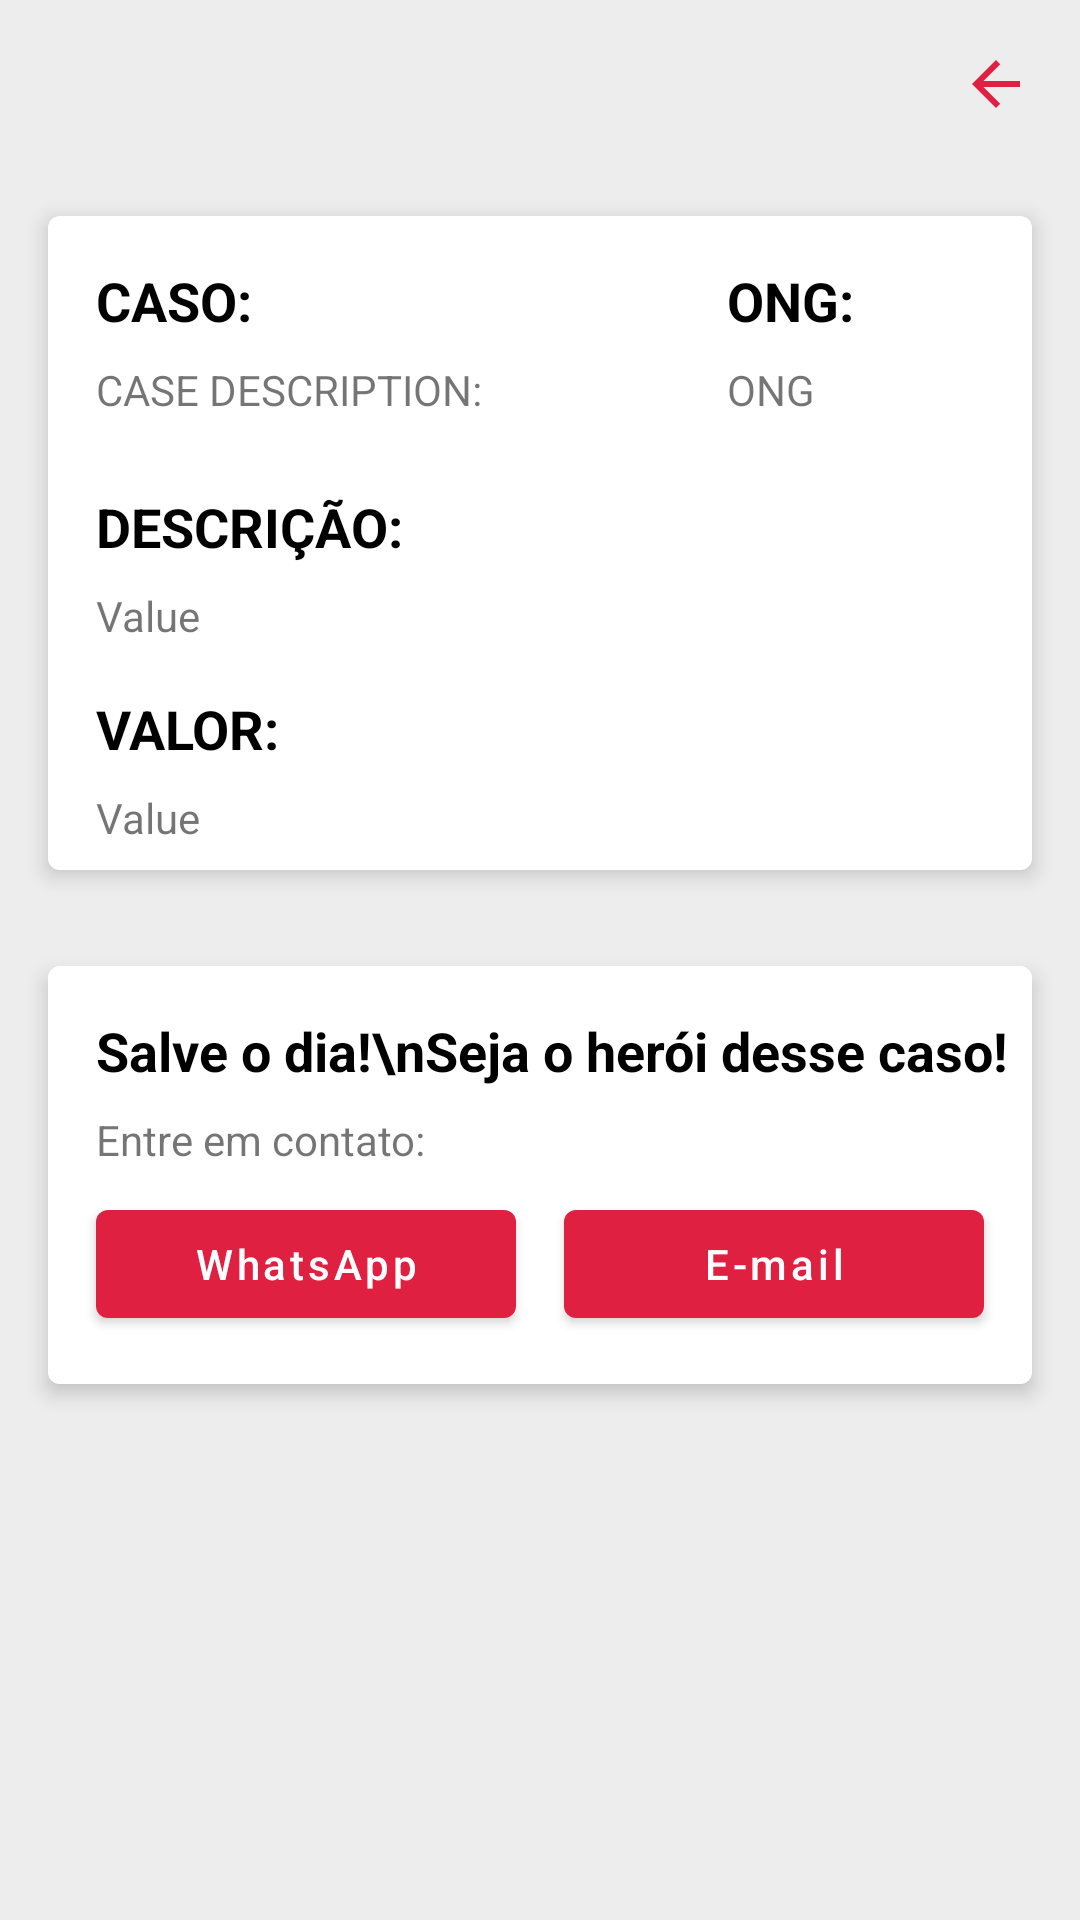

Icon bounding boxes for this 1080×1920 phone screenshot, format (x1, y1, x2, y2):
arrow back: (972, 60, 1020, 108)
